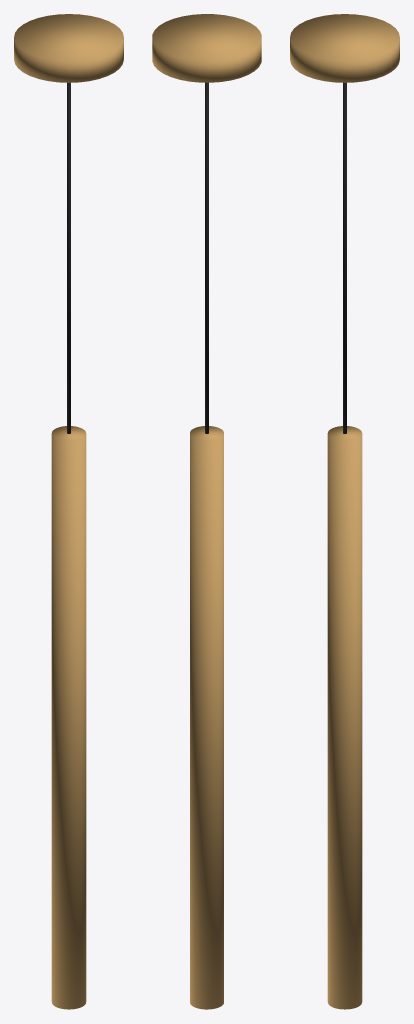
3 renders of one model, left to right at view 1: azimuth 90°, elevation 25°; view 2: azimuth 150°, elevation 25°; view 3: azimuth 270°, elevation 25°, orthographic.
Parts seen in each view (by area): view 1: void-sky-v4; view 2: void-sky-v4; view 3: void-sky-v4.
Part boxes in pixels (x1,y1,x2,y2): void-sky-v4: (14, 14, 123, 1009); void-sky-v4: (152, 14, 261, 1009); void-sky-v4: (290, 14, 399, 1009).
Bounding box in the file's own units: 0.08 × 0.777 × 0.08.
